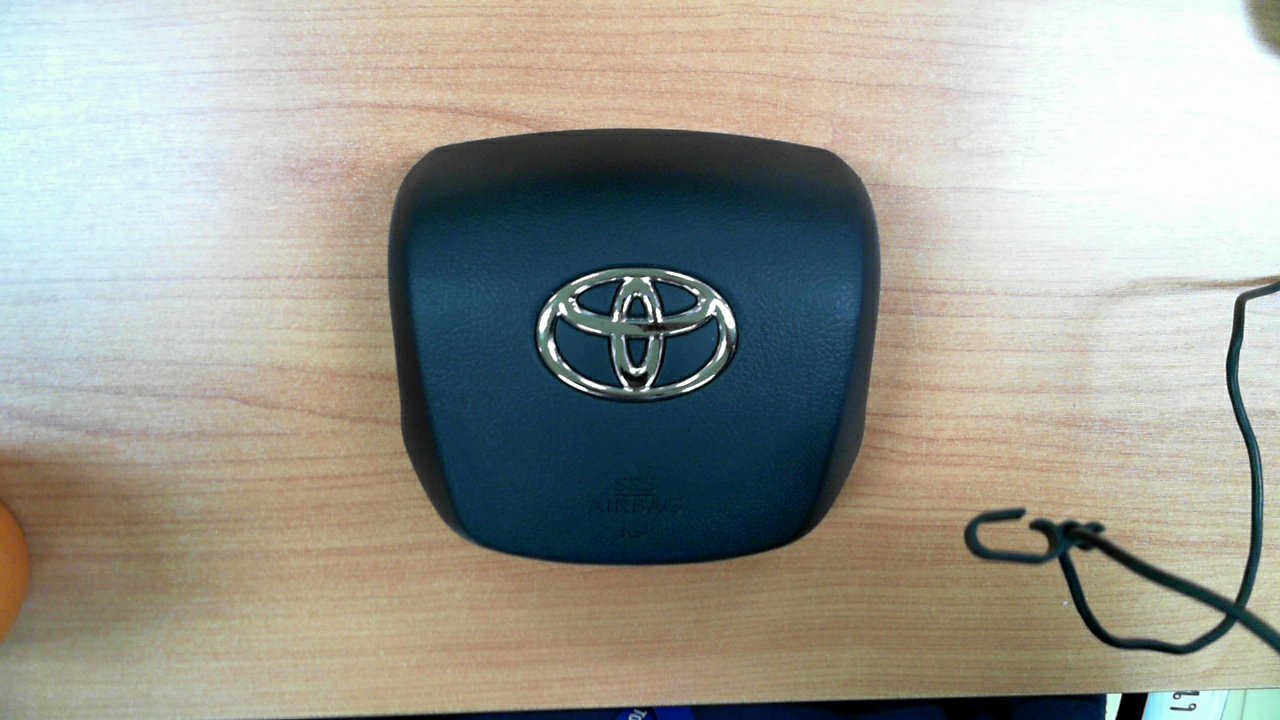Airbag: (353, 95, 908, 599)
